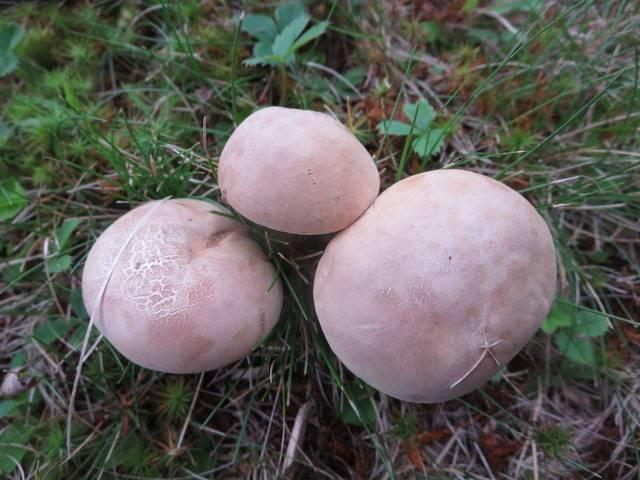Edible Mushroom: (311, 167, 557, 403), (80, 196, 283, 374), (216, 104, 380, 236)
